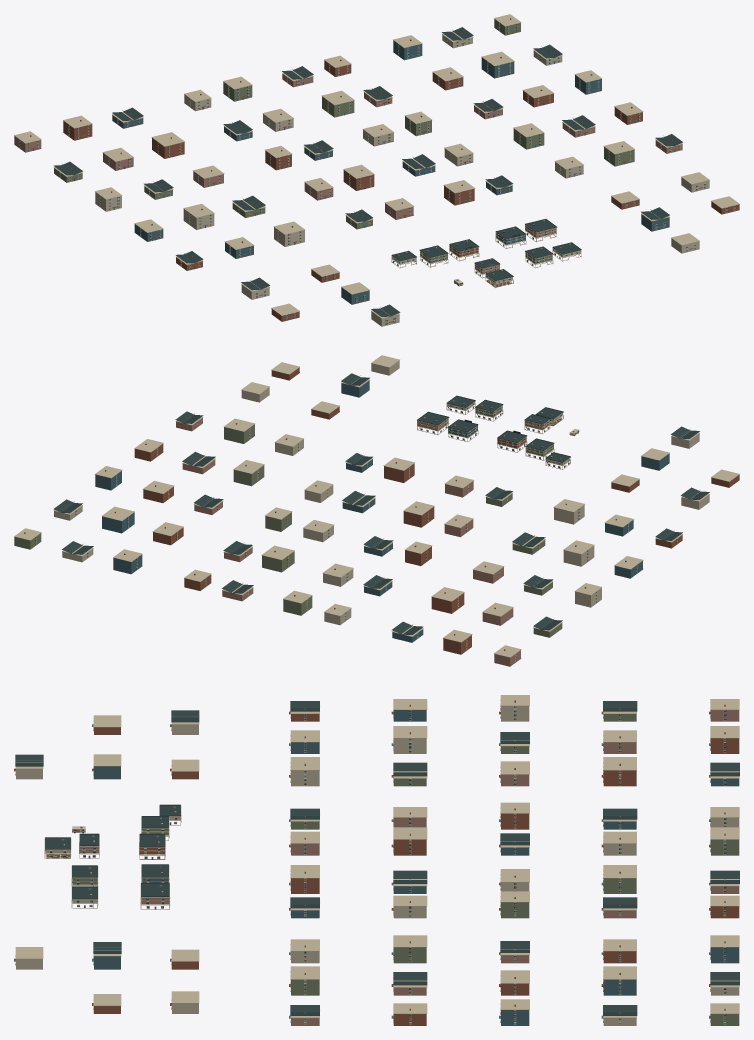
Rendered from environment-v11-final.glb.
The picture shows the model from 3 angles, top to bottom: view 1: azimuth 30°, elevation 25°; view 2: azimuth 150°, elevation 25°; view 3: azimuth 270°, elevation 25°; orthographic projection. The views are drawn at different scales.
Parts seen in each view (by area): view 1: Building_47_Matte, Building_44_Matte, Building_41_Matte, Building_20_Matte, Building_23_Matte, Building_26_Matte, Building_11_Matte, Building_14_Matte, Building_17_Matte, Building_50_Matte, Building_53_Matte, Building_56_Matte (+15 smaller); view 2: Building_41_Matte, Building_44_Matte, Building_47_Matte, Building_20_Matte, Building_23_Matte, Building_26_Matte, Building_14_Matte, Building_11_Matte, Building_17_Matte, Building_56_Matte, Building_53_Matte, Building_50_Matte (+15 smaller); view 3: Building_47_Matte, Building_41_Matte, Building_23_Matte, Building_26_Matte, Building_44_Matte, Building_20_Matte, Building_11_Matte, Building_17_Matte, Building_14_Matte, Building_21_Matte, Building_53_Matte, Building_56_Matte (+54 smaller).
Part boxes in pixels (x1=…): Building_47_Matte: x1=481, y1=51, x2=514, y2=78; Building_44_Matte: x1=321, y1=90, x2=354, y2=117; Building_41_Matte: x1=151, y1=132, x2=184, y2=158; Building_20_Matte: x1=183, y1=203, x2=214, y2=229; Building_23_Matte: x1=343, y1=164, x2=374, y2=190; Building_26_Matte: x1=513, y1=123, x2=544, y2=149; Building_11_Matte: x1=273, y1=221, x2=304, y2=246; Building_14_Matte: x1=443, y1=180, x2=475, y2=205; Building_17_Matte: x1=603, y1=141, x2=634, y2=166; Building_50_Matte: x1=63, y1=115, x2=92, y2=140; Building_53_Matte: x1=223, y1=76, x2=252, y2=101; Building_56_Matte: x1=393, y1=35, x2=422, y2=60; Building_41_Matte: x1=431, y1=587, x2=464, y2=613; Building_44_Matte: x1=261, y1=545, x2=294, y2=572; Building_47_Matte: x1=102, y1=506, x2=134, y2=533; Building_20_Matte: x1=563, y1=540, x2=594, y2=566; Building_23_Matte: x1=403, y1=501, x2=434, y2=527; Building_26_Matte: x1=233, y1=460, x2=264, y2=486; Building_14_Matte: x1=383, y1=457, x2=415, y2=482; Building_11_Matte: x1=553, y1=499, x2=584, y2=524; Building_17_Matte: x1=224, y1=418, x2=255, y2=443; Building_56_Matte: x1=113, y1=549, x2=142, y2=574; Building_53_Matte: x1=283, y1=590, x2=312, y2=615; Building_50_Matte: x1=443, y1=629, x2=472, y2=654; Building_47_Matte: x1=601, y1=966, x2=636, y2=995; Building_41_Matte: x1=601, y1=757, x2=636, y2=786; Building_23_Matte: x1=391, y1=827, x2=427, y2=855; Building_26_Matte: x1=391, y1=935, x2=427, y2=963; Building_44_Matte: x1=601, y1=865, x2=636, y2=893; Building_20_Matte: x1=391, y1=726, x2=427, y2=753; Building_11_Matte: x1=289, y1=757, x2=319, y2=786; Building_17_Matte: x1=289, y1=966, x2=319, y2=995; Building_14_Matte: x1=289, y1=865, x2=319, y2=893; Building_21_Matte: x1=391, y1=762, x2=427, y2=786; Building_53_Matte: x1=709, y1=827, x2=739, y2=855; Building_56_Matte: x1=709, y1=935, x2=739, y2=963.
Bounding box in the file's own units: 497 × 13.2 × 484.
